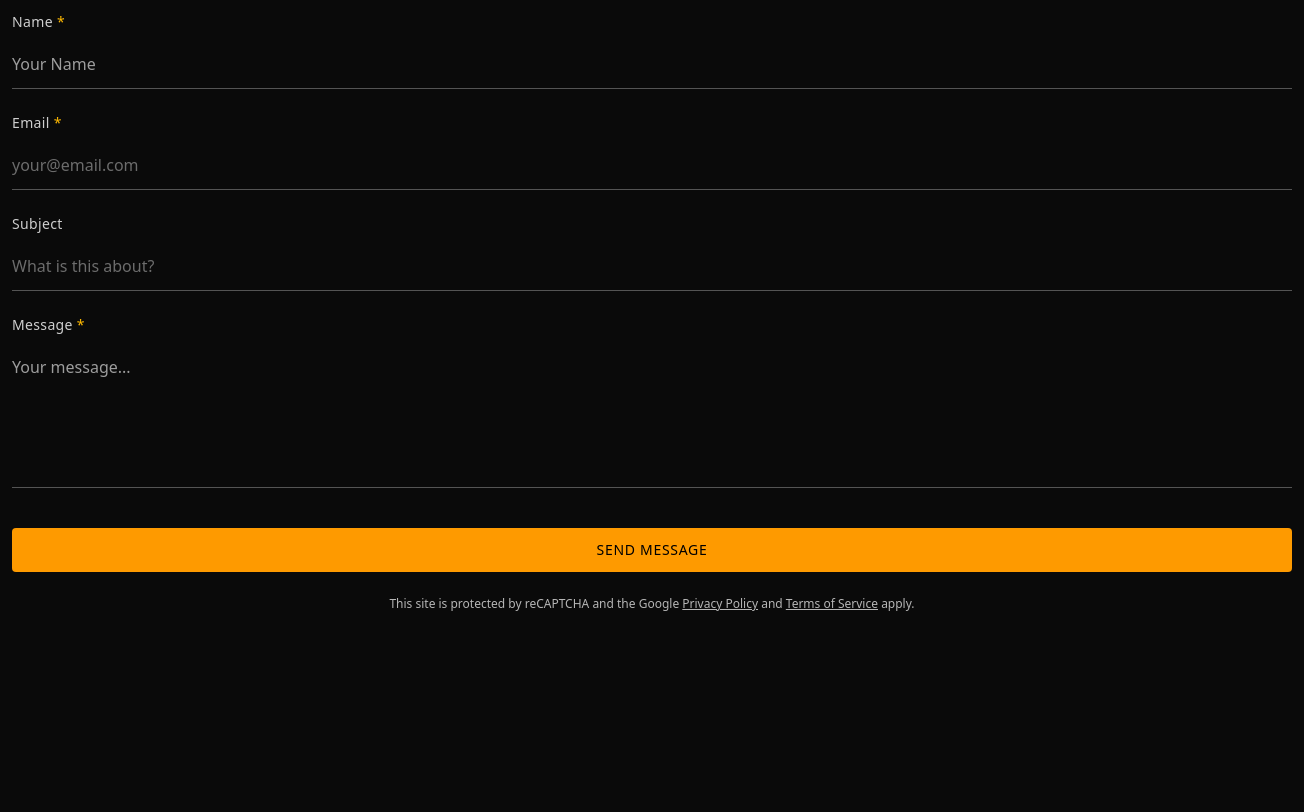
Test: ContactForm › shows validation error for invalid email
This screenshot has width=1304, height=812.
Type "Test User" into the field labelled "Name *" at (652, 64), box [12,40,1292,89]
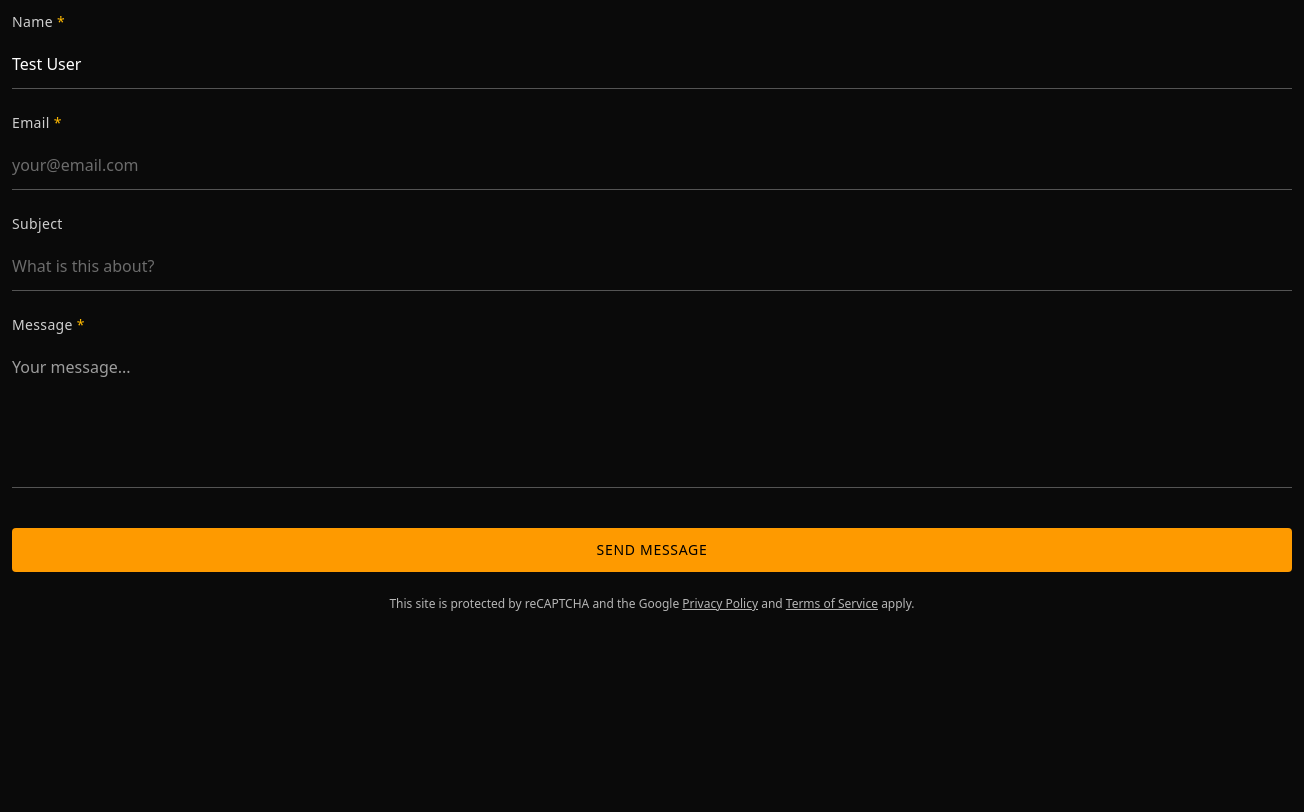
Type "invalid-email" into the field labelled "Email *" at (652, 166), box [12,141,1292,190]
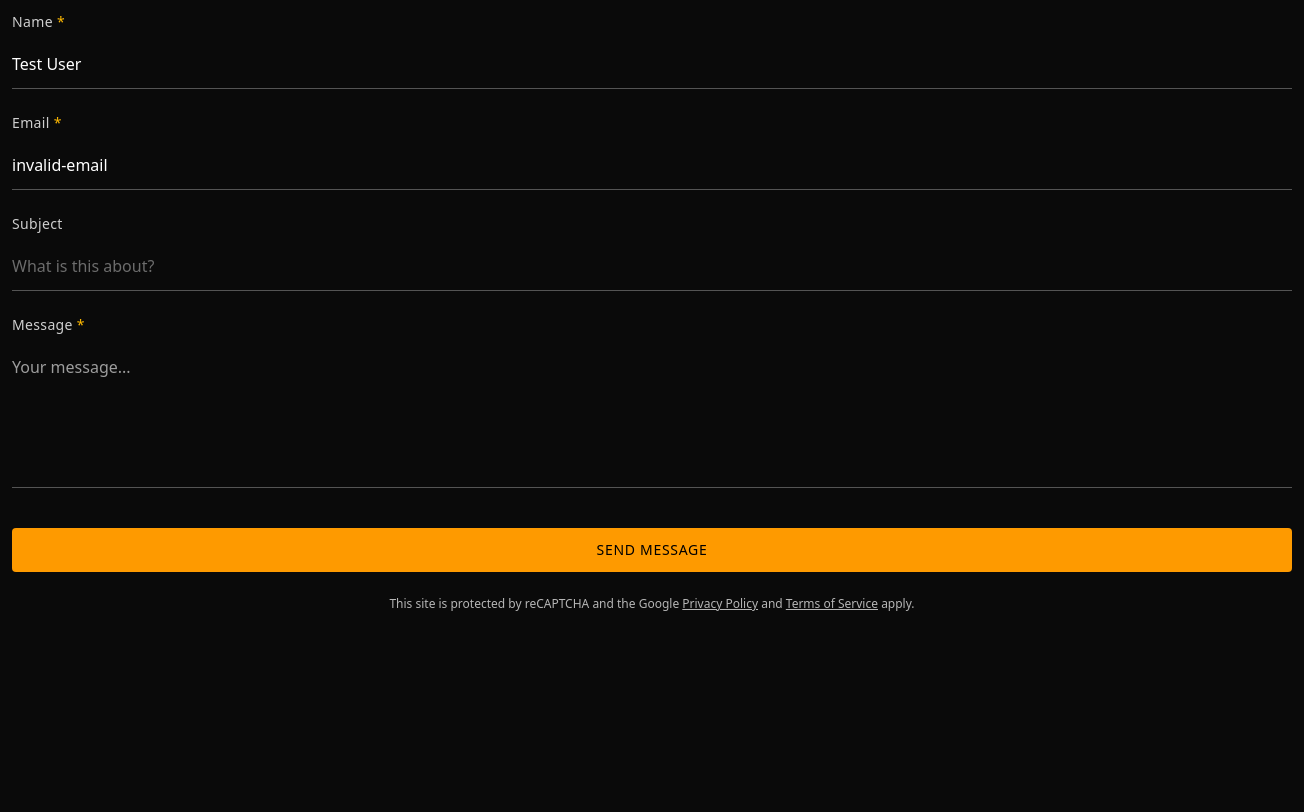
Type "Test message" into the text box labelled "Message *" at (652, 416), box [12,343,1292,488]
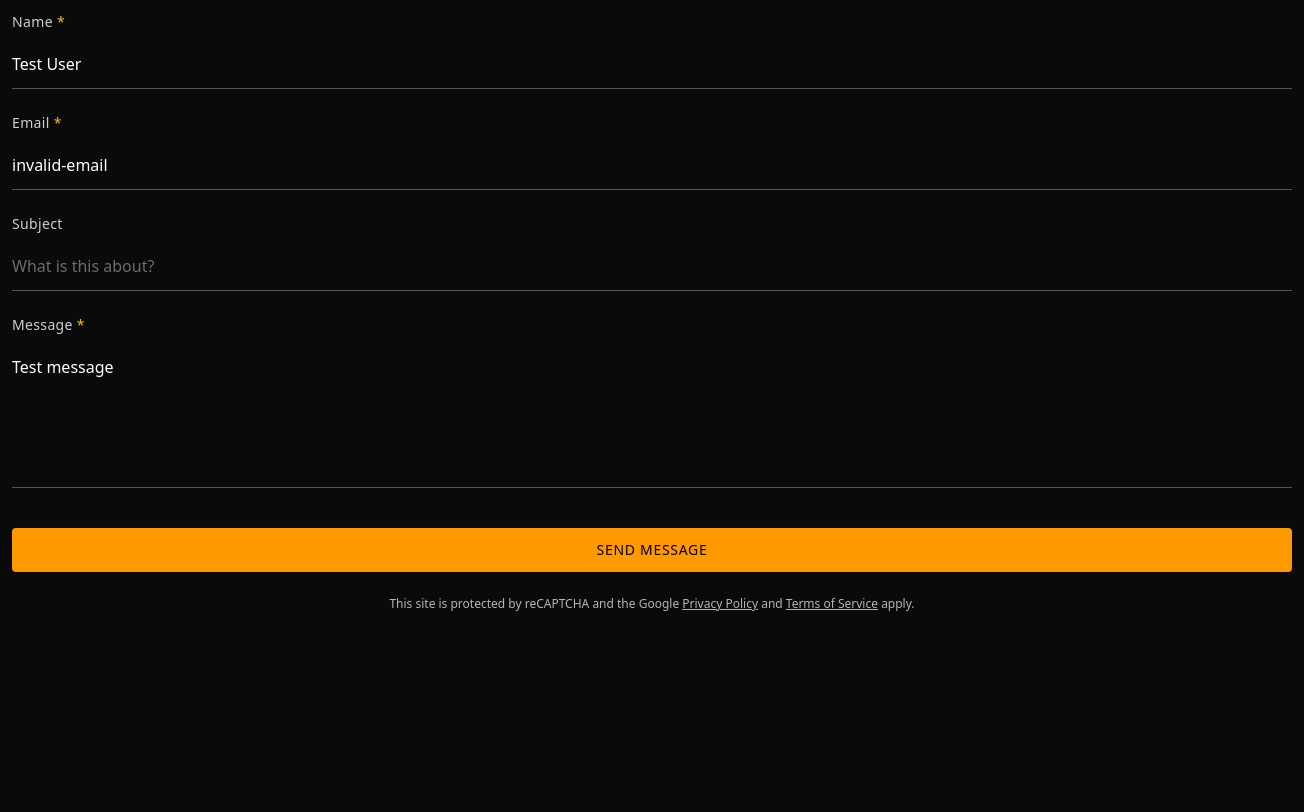
Click the button "SEND MESSAGE" at (652, 550), box [12,528,1292,572]
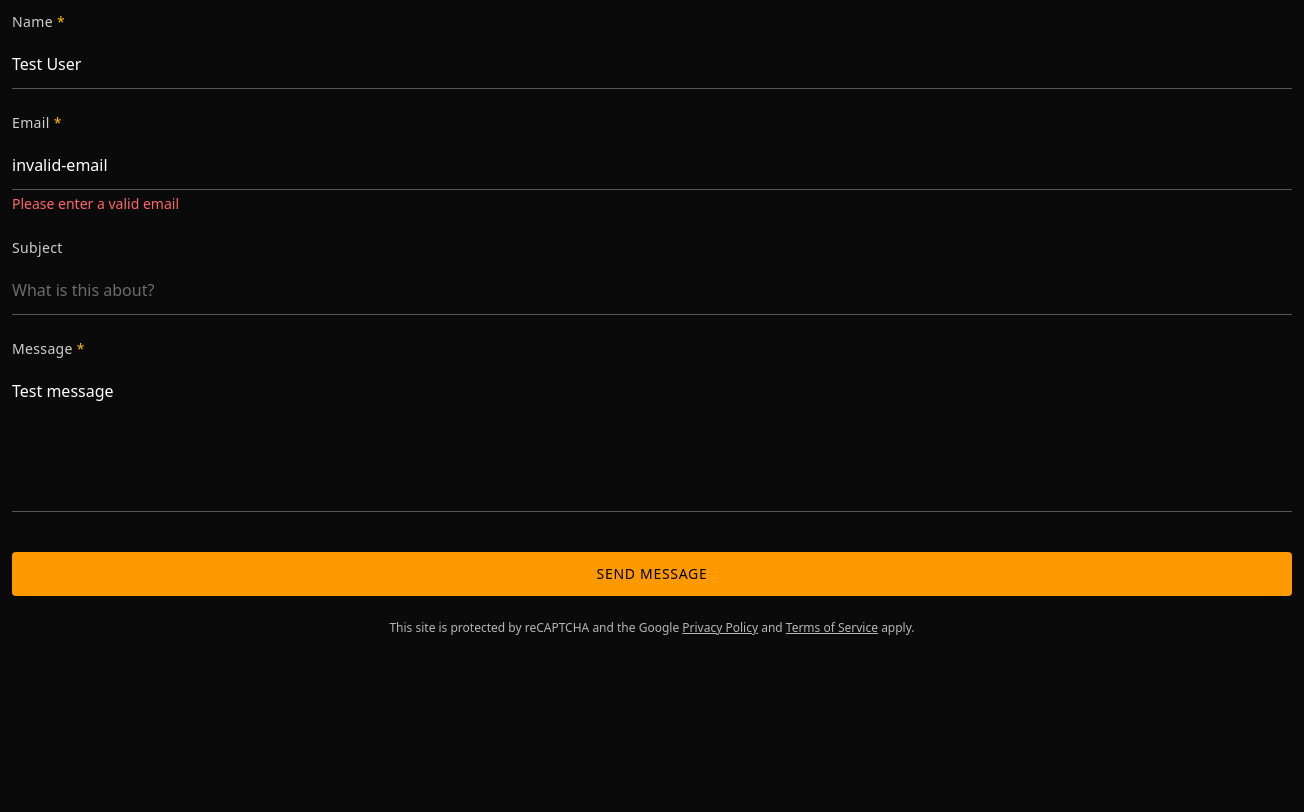
Result: the text "Please enter a valid email" is shown at [12,194,179,213]
